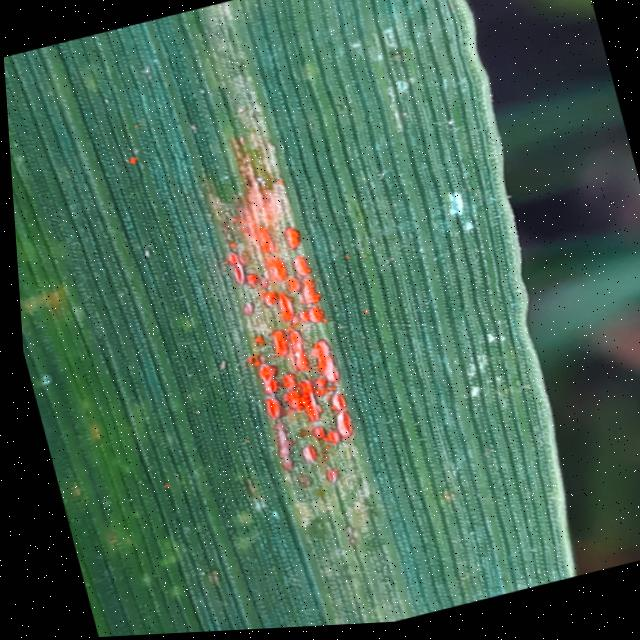yellow_rust: (0, 0, 617, 640)
